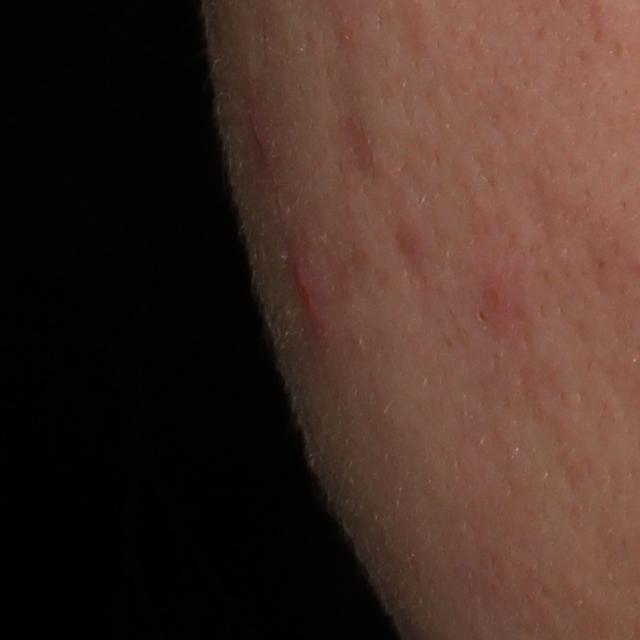papule: (284, 246, 331, 323)
